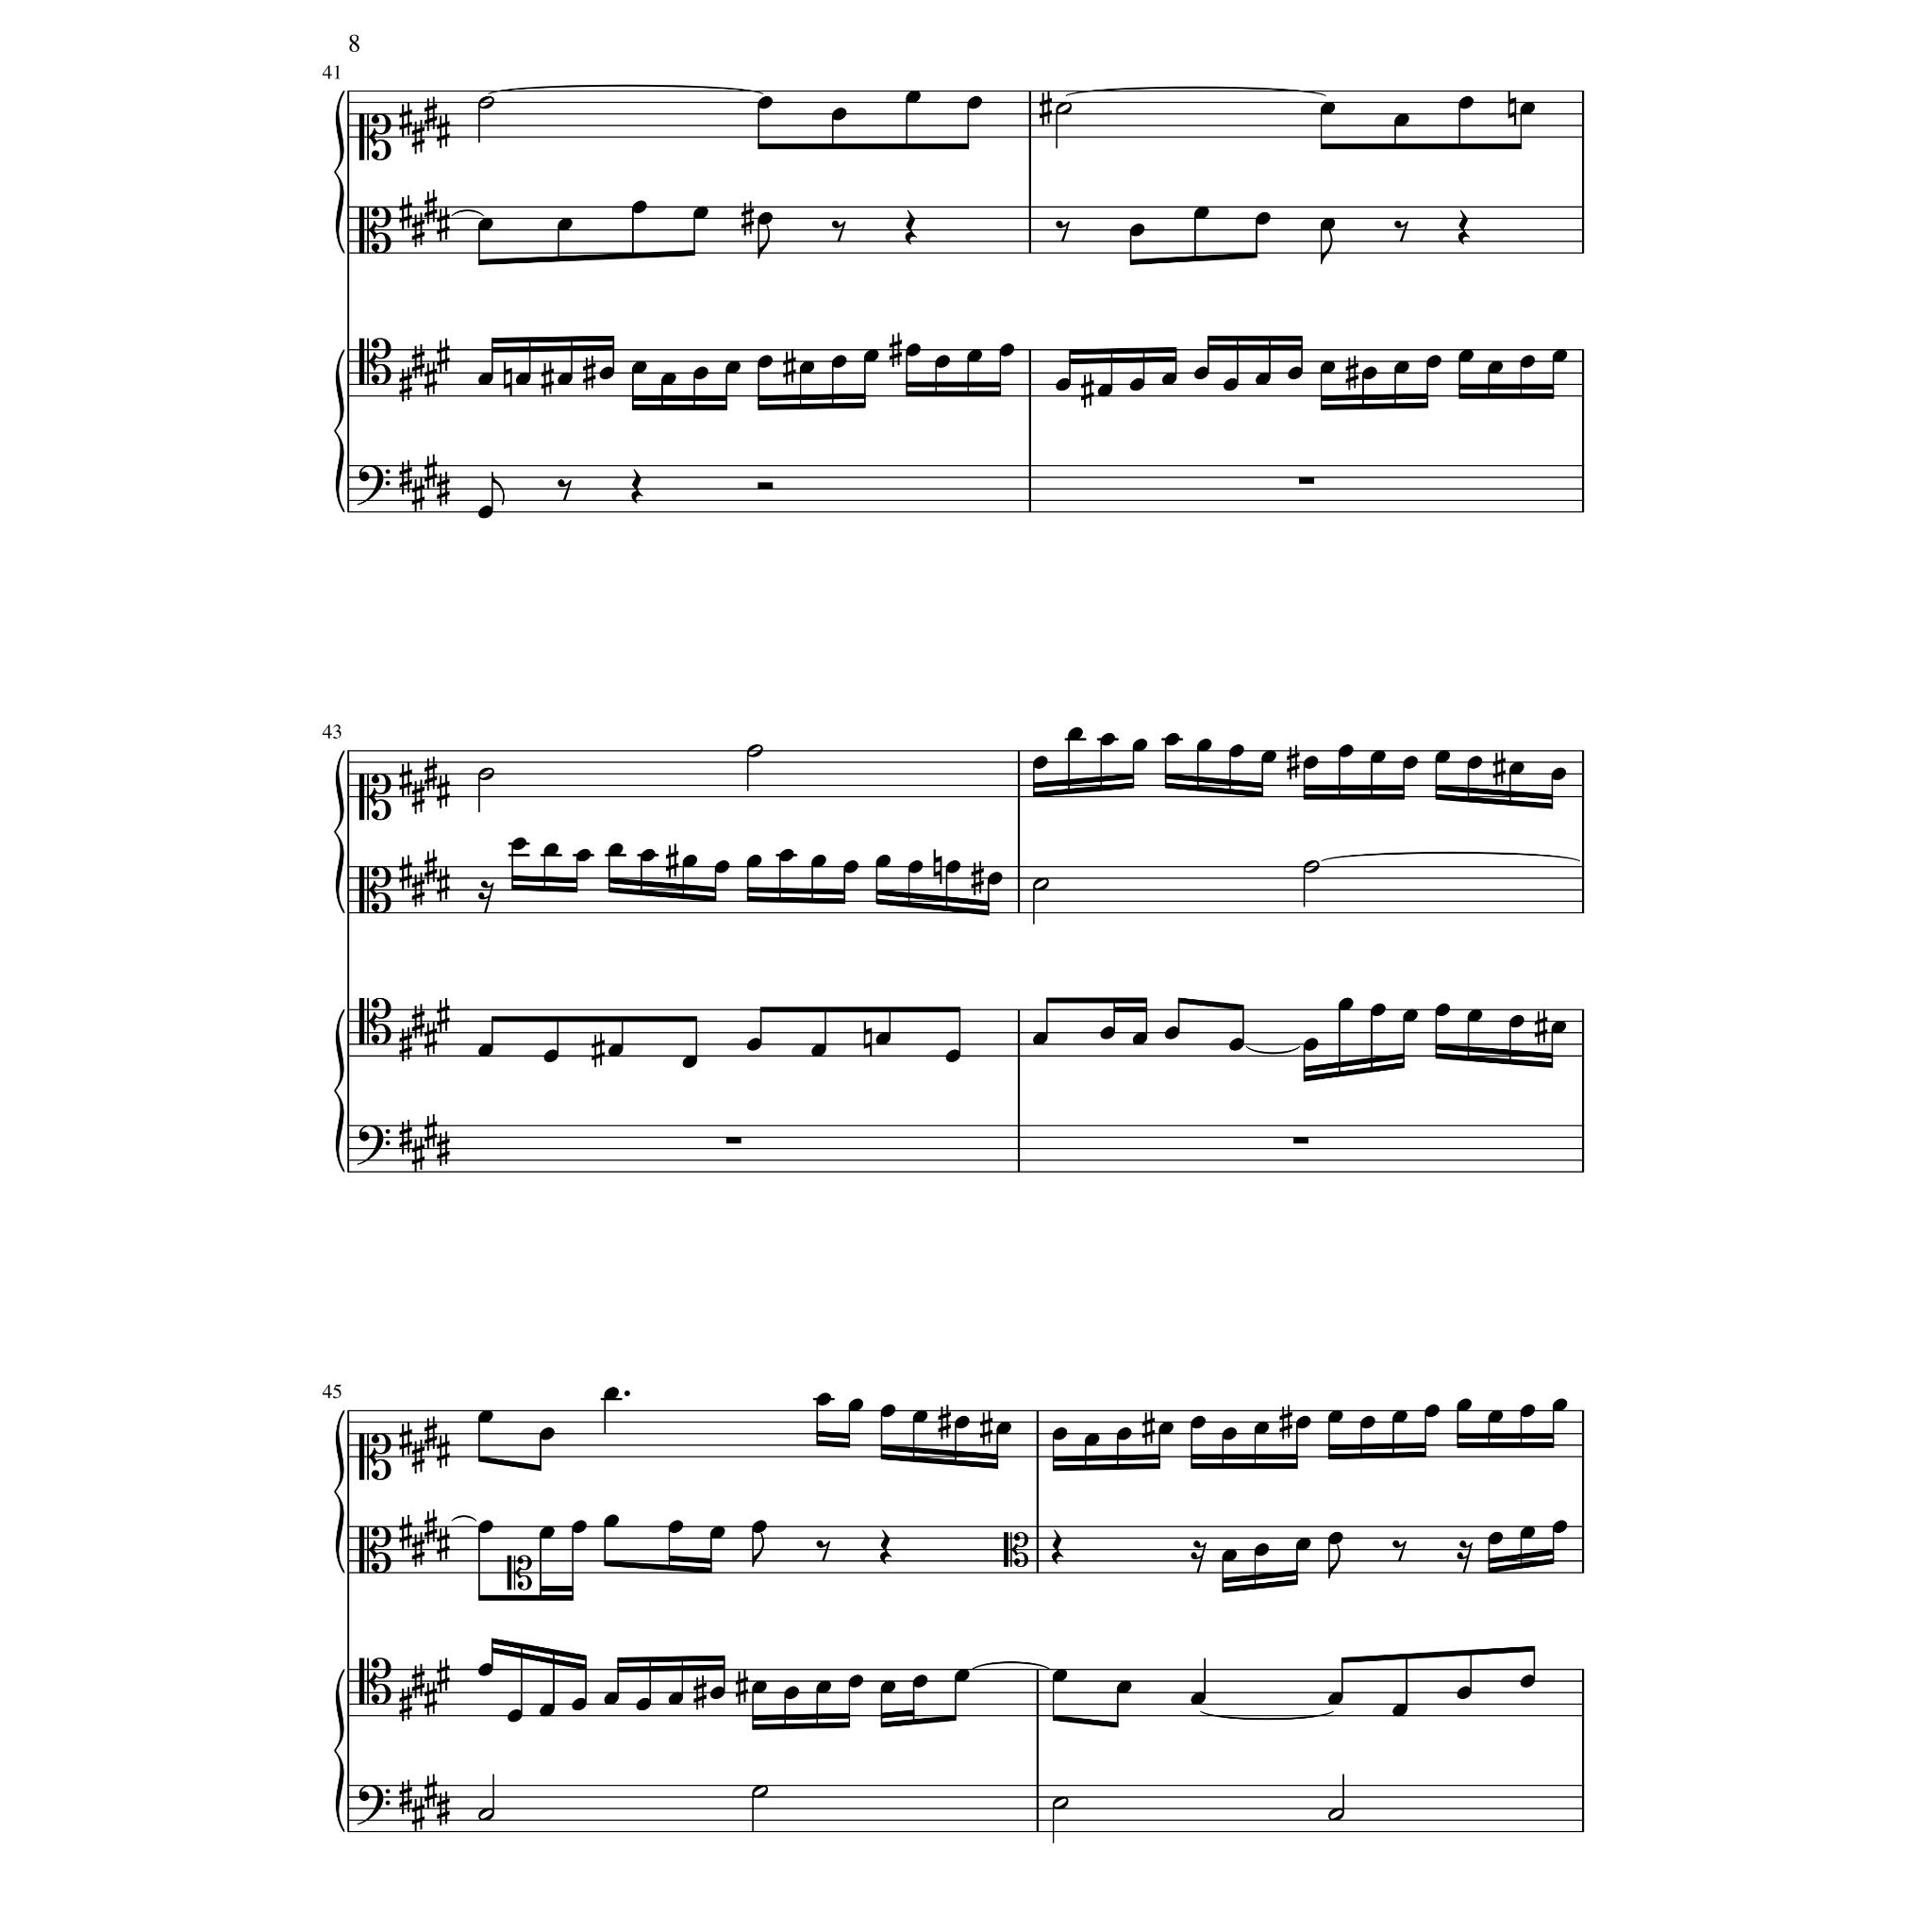brace: (333, 349, 344, 513), (333, 91, 344, 255), (333, 750, 344, 914), (333, 1410, 344, 1574), (333, 1669, 344, 1833), (333, 1009, 344, 1172)
fClef: (357, 1124, 391, 1166), (357, 466, 391, 506), (357, 1785, 391, 1824)
flag8thDown: (1328, 1544, 1341, 1578), (1321, 230, 1332, 264), (758, 225, 770, 259), (753, 1533, 764, 1567)
flag8thUp: (491, 472, 505, 506)
noteheadBlack: (1255, 211, 1272, 226), (1055, 377, 1072, 392), (1128, 377, 1145, 392), (1128, 223, 1145, 238), (757, 211, 774, 226), (1260, 749, 1277, 764), (1370, 749, 1387, 764), (1434, 749, 1451, 764), (1253, 1421, 1270, 1436), (1115, 1679, 1132, 1694), (879, 1679, 896, 1694), (751, 1679, 768, 1694), (815, 1679, 832, 1694), (1223, 377, 1238, 392), (543, 1049, 558, 1064), (945, 1049, 960, 1064), (1158, 1421, 1174, 1436), (604, 1513, 619, 1528), (996, 1421, 1011, 1436), (1192, 367, 1209, 380), (1192, 207, 1209, 220), (1319, 102, 1336, 115), (1287, 367, 1304, 380), (1319, 218, 1336, 231), (1255, 373, 1272, 386), (1319, 361, 1336, 375), (998, 343, 1015, 357), (1096, 384, 1113, 397), (1551, 349, 1568, 362), (1519, 356, 1536, 369), (1519, 102, 1536, 115), (1487, 361, 1504, 375), (1360, 367, 1377, 380), (598, 367, 615, 380), (557, 373, 574, 386), (557, 218, 574, 231), (692, 367, 709, 380), (692, 207, 709, 220), (630, 361, 647, 375), (630, 201, 647, 214), (477, 506, 494, 519), (477, 373, 494, 386), (477, 218, 494, 231), (934, 356, 951, 369), (830, 356, 847, 369), (830, 108, 847, 121), (862, 349, 879, 362), (724, 361, 741, 375), (966, 349, 983, 362), (757, 356, 774, 369), (757, 96, 774, 109), (966, 96, 983, 109), (1228, 1038, 1245, 1051), (1228, 744, 1245, 758), (1302, 1038, 1319, 1051), (1302, 756, 1319, 769), (1402, 1009, 1419, 1023), (1402, 756, 1419, 769), (1370, 1004, 1387, 1017), (1466, 756, 1483, 769), (1466, 1009, 1483, 1023), (1434, 1004, 1451, 1017), (713, 860, 730, 874), (681, 1056, 698, 1069), (681, 855, 698, 868), (477, 1043, 494, 1057), (1032, 756, 1049, 769), (1032, 1032, 1049, 1045), (745, 1038, 762, 1051), (745, 855, 762, 868), (1253, 1543, 1270, 1557), (1294, 1538, 1311, 1551), (1294, 1416, 1311, 1429), (1115, 1427, 1132, 1441), (1083, 1433, 1100, 1446), (1551, 1398, 1568, 1411), (1551, 1520, 1568, 1533), (1487, 1410, 1504, 1424), (1487, 1532, 1504, 1545), (538, 1525, 555, 1539), (538, 1704, 555, 1717), (538, 1427, 555, 1441), (477, 1410, 494, 1424), (477, 1520, 494, 1533), (477, 1663, 494, 1676), (879, 1404, 896, 1417), (847, 1398, 864, 1411), (847, 1674, 864, 1688), (911, 1410, 928, 1424), (911, 1674, 928, 1688), (751, 1520, 768, 1533), (815, 1392, 832, 1406), (783, 1686, 800, 1699), (1162, 373, 1177, 386), (1394, 361, 1409, 375), (1394, 113, 1409, 126), (1458, 349, 1474, 362), (1458, 96, 1474, 109), (1426, 356, 1441, 369), (515, 373, 530, 386), (660, 373, 675, 386), (799, 361, 814, 375), (906, 343, 921, 357), (906, 91, 921, 104), (1196, 739, 1211, 752), (1338, 998, 1353, 1011), (1338, 744, 1353, 758), (1164, 733, 1179, 746), (1068, 727, 1083, 741), (1132, 1032, 1147, 1045), (1164, 1026, 1179, 1040), (1132, 739, 1147, 752), (1100, 1026, 1115, 1040), (1100, 733, 1115, 746), (1551, 1021, 1566, 1034), (1551, 768, 1566, 781), (1509, 1015, 1524, 1028), (1509, 762, 1524, 775), (608, 1043, 623, 1057), (608, 843, 623, 857), (575, 849, 591, 862), (543, 843, 558, 857), (640, 849, 655, 862), (511, 838, 526, 851), (945, 860, 960, 874), (908, 860, 923, 874), (875, 1032, 891, 1045), (875, 855, 891, 868), (987, 872, 1002, 885), (811, 1043, 826, 1057), (811, 855, 826, 868), (779, 849, 794, 862), (843, 860, 858, 874), (1191, 1691, 1206, 1705), (1222, 1427, 1237, 1441), (1222, 1549, 1237, 1562), (1328, 1410, 1343, 1424), (1328, 1532, 1343, 1545), (1328, 1691, 1343, 1705), (1052, 1669, 1067, 1682), (1191, 1416, 1206, 1429), (1520, 1525, 1535, 1539), (1520, 1674, 1535, 1688), (1520, 1404, 1535, 1417), (1392, 1704, 1407, 1717), (1392, 1410, 1407, 1424), (1424, 1404, 1440, 1417), (1360, 1416, 1375, 1429), (1457, 1398, 1472, 1411), (1457, 1686, 1472, 1699), (572, 1520, 587, 1533), (572, 1698, 587, 1711), (604, 1387, 619, 1400), (668, 1691, 683, 1705), (636, 1698, 651, 1711), (668, 1520, 683, 1533), (604, 1691, 619, 1705), (508, 1709, 523, 1723), (1052, 1427, 1067, 1441), (955, 1416, 970, 1429), (955, 1669, 970, 1682), (709, 1525, 724, 1539), (709, 1686, 724, 1699)
noteheadHalf: (1055, 102, 1072, 115), (477, 96, 494, 109), (1303, 860, 1320, 874), (477, 768, 494, 781), (1032, 877, 1049, 891), (746, 744, 763, 758), (1327, 1807, 1344, 1821), (1052, 1796, 1069, 1809), (477, 1807, 494, 1821), (751, 1785, 768, 1798)
rest16th: (1191, 1540, 1207, 1574), (1457, 1540, 1474, 1574), (477, 881, 494, 913)
rest8th: (1055, 221, 1070, 243), (1393, 221, 1408, 243), (557, 479, 572, 502), (831, 221, 846, 243), (1391, 1540, 1407, 1562), (816, 1540, 831, 1562)
restHalf: (757, 482, 774, 490)
restQuarter: (1457, 209, 1470, 245), (630, 469, 643, 505), (1051, 1529, 1064, 1565), (879, 1529, 892, 1565), (906, 209, 917, 245)
restWhole: (1298, 477, 1315, 485), (1292, 1137, 1309, 1144), (724, 1137, 741, 1144)
